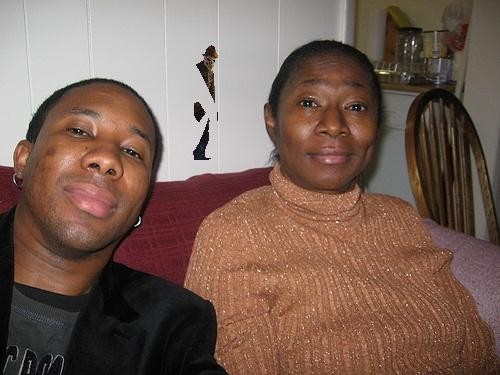tampered: (194, 46, 218, 160)
